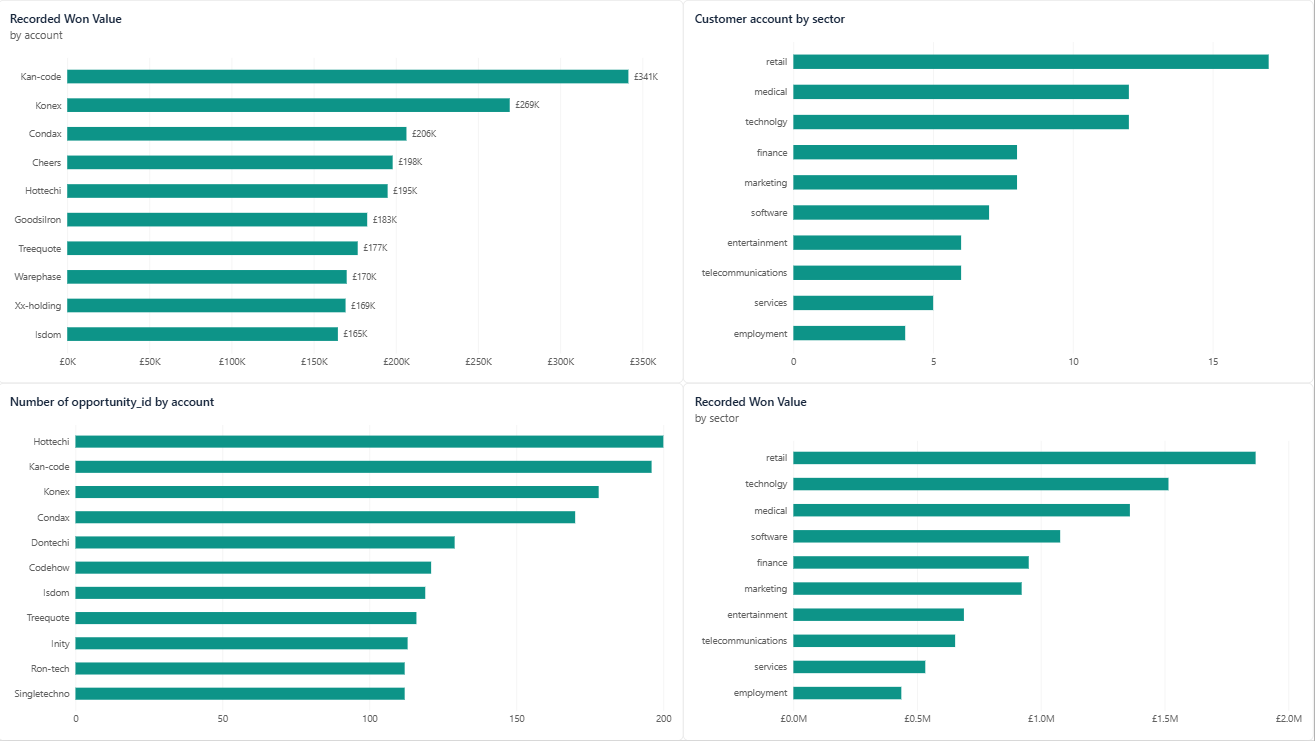

The dashboard page shown, as its layout file describes it:
{"tool":"powerbi","page":{"name":"Account Perfromance","canvas":[1920,1080],"ordinal":3},"visuals":[{"type":"clusteredBarChart","fields":{"Category":["accounts.account"],"Y":["sales_pipeline.Recorded Won Value"]},"box":[0,0,999.7,559.1],"z":0},{"type":"clusteredBarChart","title":"Number of opportunity_id by account","fields":{"Category":["accounts.account"],"Y":["CountNonNull(sales_pipeline.opportunity_id)"]},"box":[0,559.1,999.7,521.6],"z":1000},{"type":"clusteredBarChart","fields":{"Category":["accounts.sector"],"Y":["sales_pipeline.Recorded Won Value"]},"box":[999.7,559.1,920.3,521.6],"z":2000},{"type":"barChart","title":"Customer account by sector","fields":{"Category":["accounts.sector"],"Y":["CountNonNull(accounts.account)"]},"box":[999.7,0,920.3,559.1],"z":3000}]}

Visuals, with their boxes in screenshot pixels (x1, y1, x2, y2), scaled from the page's 1920x1080 canvas onto the 1315x741 screenshot:
clusteredBarChart - accounts.account x sales_pipeline.Recorded Won Value: detection(0, 0, 685, 384)
"Number of opportunity_id by account" clusteredBarChart: detection(0, 384, 685, 740)
clusteredBarChart - accounts.sector x sales_pipeline.Recorded Won Value: detection(685, 384, 1314, 740)
"Customer account by sector" barChart: detection(685, 0, 1314, 384)
